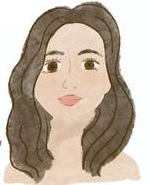가을 웜톤: (40, 41, 105, 122)
